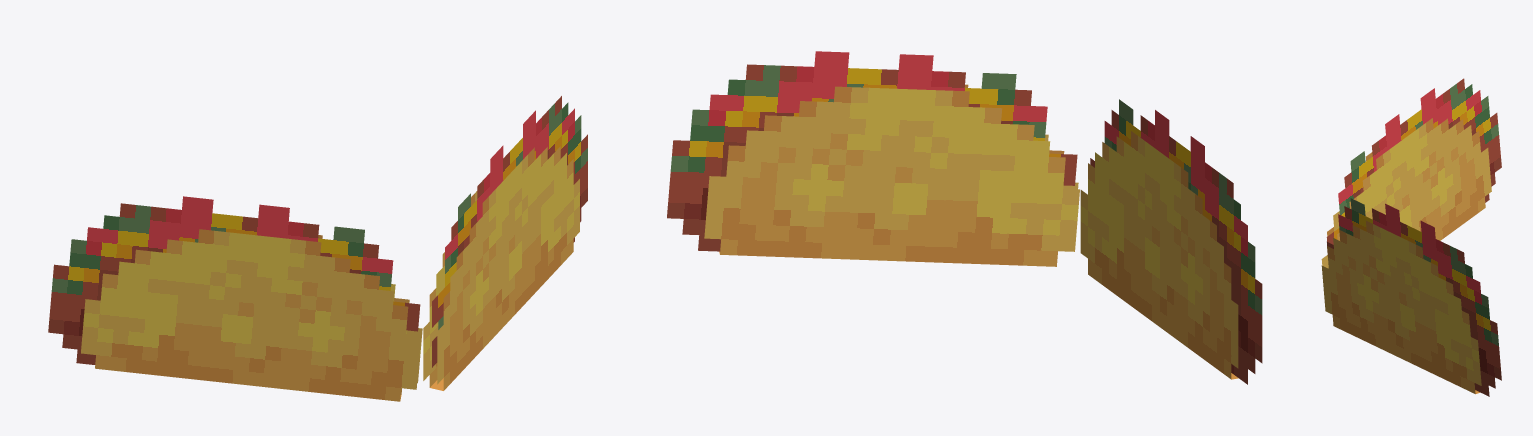
File: sl_mef_s_taco_wings.glb
3 renders of one model, left to right at view 1: azimuth 30°, elevation 25°; view 2: azimuth 150°, elevation 25°; view 3: azimuth 270°, elevation 25°, orthographic. The views are drawn at different scales.
Visible parts, largest first — view 1: bb_mef_s_taco_wings; view 2: bb_mef_s_taco_wings; view 3: bb_mef_s_taco_wings.
Boxes of the visible parts, box(x1,y1,x2,y2) form: bb_mef_s_taco_wings: box(48, 96, 587, 401); bb_mef_s_taco_wings: box(667, 51, 1262, 384); bb_mef_s_taco_wings: box(1321, 78, 1501, 396).
Size of the model in its own units: 2.75 by 1.13 by 1.07.
Materials: 1 (1 with a texture image).
